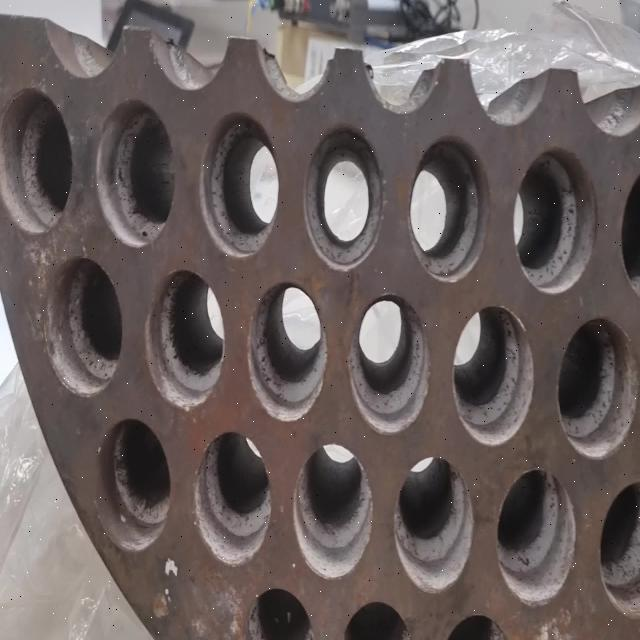Hole: (513, 147, 597, 295), (198, 110, 280, 259), (303, 123, 384, 271), (408, 134, 488, 283), (95, 100, 175, 248), (452, 304, 534, 448), (347, 293, 430, 435), (557, 315, 638, 460), (246, 280, 328, 423), (145, 267, 224, 411), (496, 466, 577, 606), (44, 256, 123, 397), (293, 442, 373, 580), (393, 456, 473, 594), (193, 429, 271, 566), (1, 88, 73, 235), (97, 416, 172, 552), (599, 478, 640, 622), (245, 584, 318, 640), (341, 599, 414, 640)
